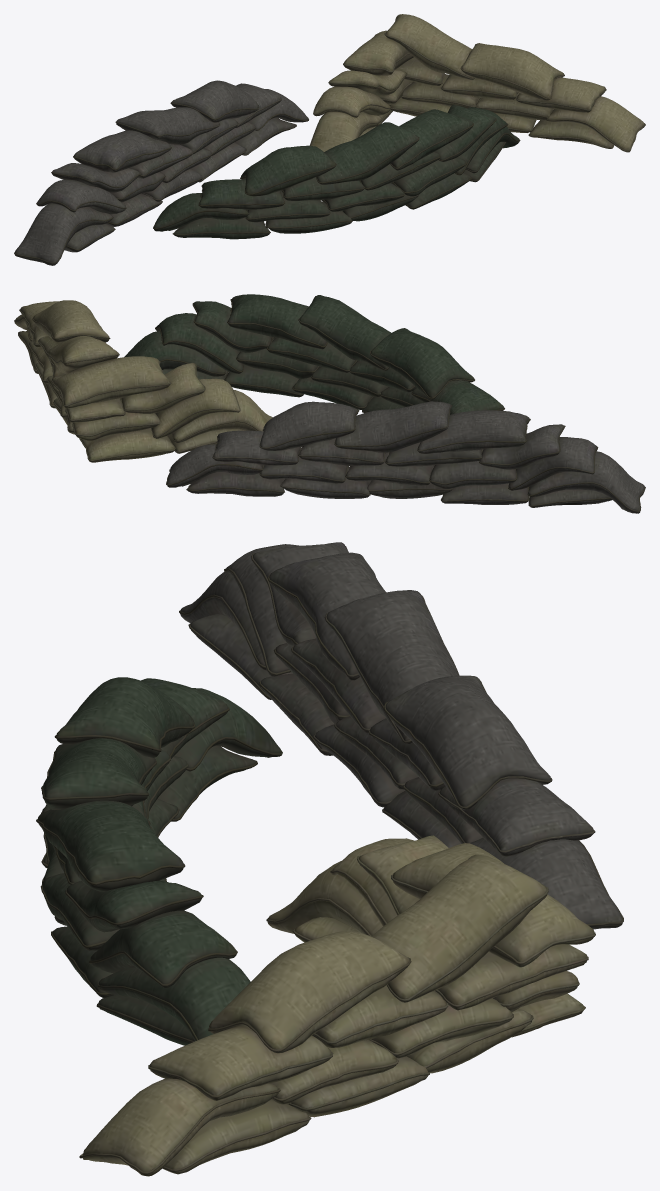
File: sandbag_wall.glb
The picture shows the model from 3 angles, top to bottom: view 1: azimuth 30°, elevation 25°; view 2: azimuth 150°, elevation 25°; view 3: azimuth 270°, elevation 25°; orthographic projection. The views are drawn at different scales.
Visible parts, largest first — view 1: sand_bag_straight_001_mesh_sandbag_0; view 2: sand_bag_straight_001_mesh_sandbag_0; view 3: sand_bag_straight_001_mesh_sandbag_0.
Boxes of the visible parts, left/top/right/bottom form: sand_bag_straight_001_mesh_sandbag_0: left=14, top=14, right=645, bottom=265; sand_bag_straight_001_mesh_sandbag_0: left=14, top=294, right=645, bottom=513; sand_bag_straight_001_mesh_sandbag_0: left=36, top=542, right=623, bottom=1176.
Size of the model in its own units: 5.21 by 0.7522 by 2.21.
Materials: 1 (1 with a texture image).
